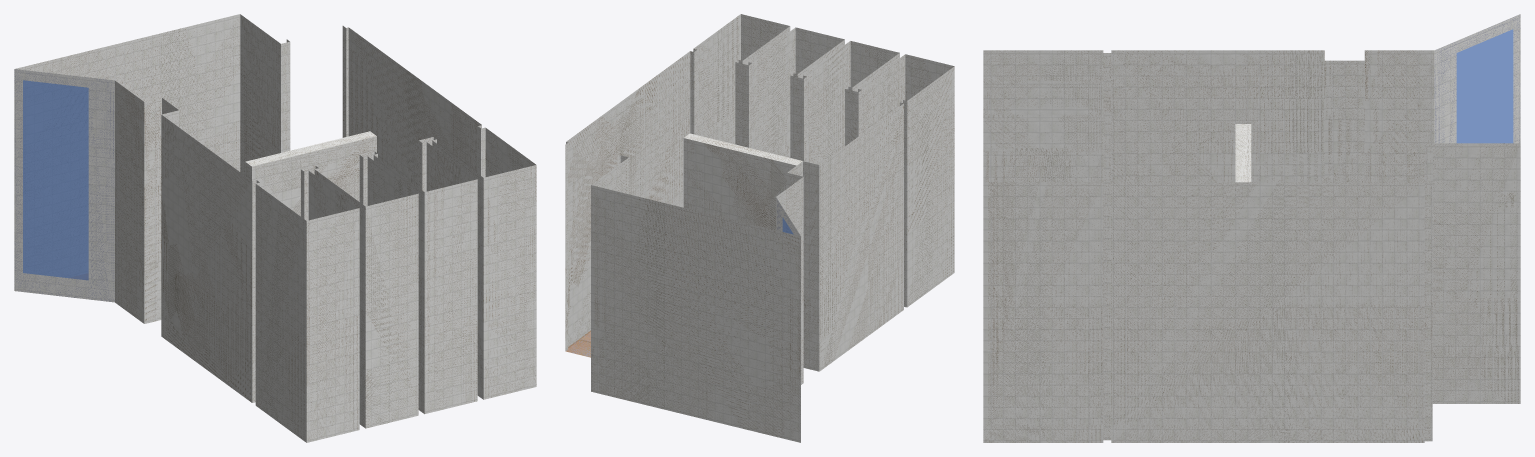
File: COM005.obj
3 views of the same model, side by side, from view 1: azimuth 30°, elevation 25°; view 2: azimuth 150°, elevation 25°; view 3: azimuth 270°, elevation 25° (orthographic). The views are drawn at different scales.
Visible parts, largest first — view 1: Mesh1 COM005 Model; view 2: Mesh1 COM005 Model; view 3: Mesh1 COM005 Model.
Part boxes in pixels (<box>): Mesh1 COM005 Model: <box>14,14,536,442</box>; Mesh1 COM005 Model: <box>565,14,954,442</box>; Mesh1 COM005 Model: <box>983,14,1520,442</box>.
Bounding box in the file's own units: 4.98 × 3.6 × 6.72.
Materials: 5 (3 with a texture image).
